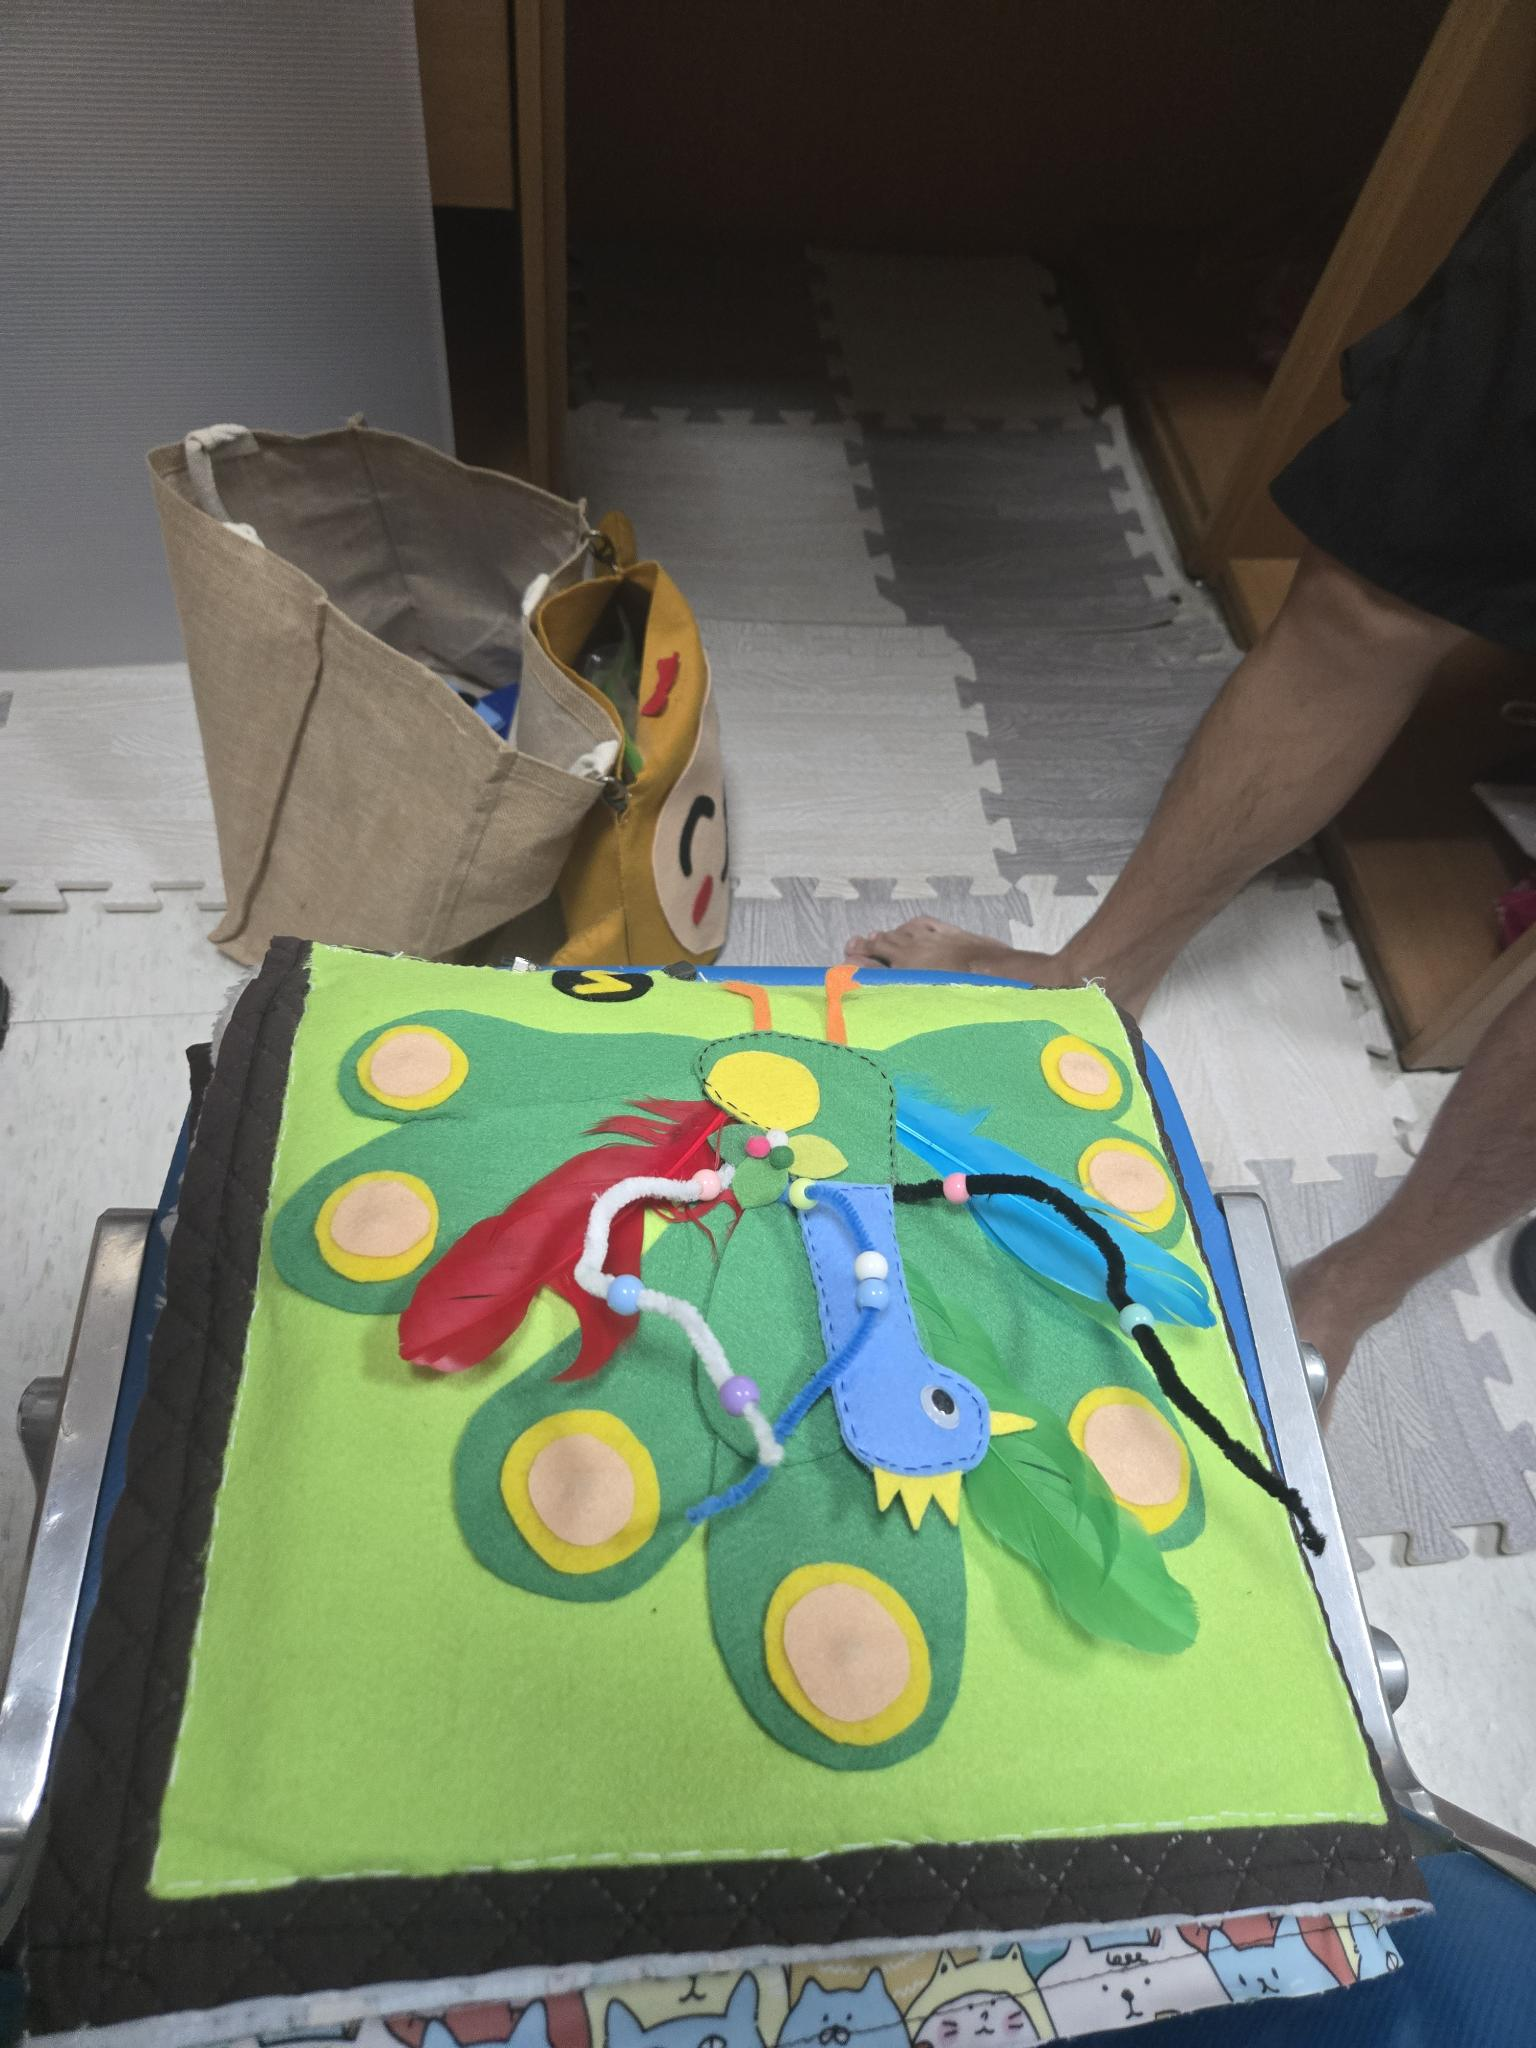bead: (916, 1145, 978, 1227), (599, 1256, 655, 1337), (707, 1374, 757, 1435), (692, 1150, 726, 1205), (1117, 1293, 1154, 1334), (850, 1230, 886, 1272), (855, 1272, 889, 1309)
